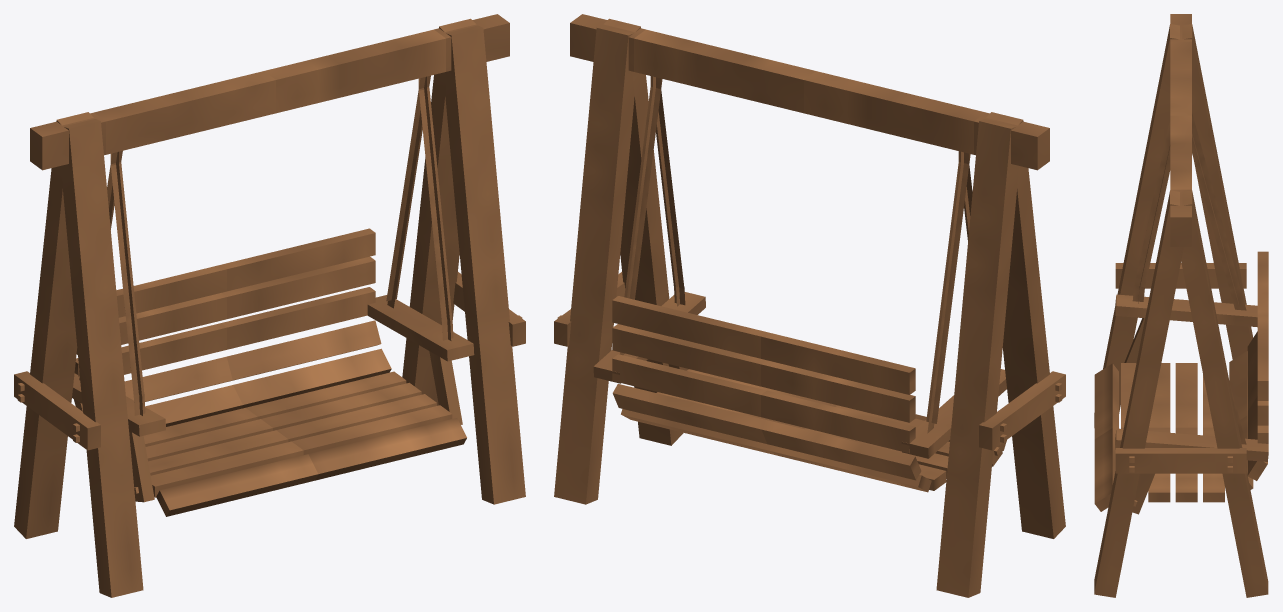
The model's file is swingchair.obj.
3 renders of one model, left to right at view 1: azimuth 30°, elevation 25°; view 2: azimuth 150°, elevation 25°; view 3: azimuth 270°, elevation 25°, orthographic. The views are drawn at different scales.
Parts seen in each view (by area): view 1: Leg3, Leg1, Leg2, plank1, Top1, Top2, Leg4, plank10, plank8, plank9, plank7, plank6 (+13 smaller); view 2: Leg2, Leg4, Leg1, plank10, plank8, plank9, Top1, Top2, plank7, Leg3, chain2, plank6 (+9 smaller); view 3: Leg3, Leg4, Leg1, Leg2, chain1a, armrest2, shelf2a, plank1, plank4, plank10, plank3, Top1 (+10 smaller).
Boxes of the visible parts, box(x1,y1,x2,y2) form: Leg3: box(445, 25, 525, 504); Leg1: box(61, 119, 143, 597); Leg2: box(14, 112, 93, 538); plank1: box(156, 418, 466, 516); Top1: box(94, 71, 275, 154); Top2: box(264, 29, 445, 113); Leg4: box(402, 18, 476, 405); plank10: box(116, 228, 375, 317); plank8: box(74, 287, 375, 374); plank9: box(76, 256, 375, 354); plank7: box(74, 320, 381, 411); plank6: box(145, 348, 391, 426); Leg2: box(936, 119, 1018, 597); Leg4: box(554, 25, 634, 504); Leg1: box(986, 112, 1065, 538); plank10: box(612, 296, 915, 394); plank8: box(612, 354, 915, 453); plank9: box(612, 324, 915, 422); Top1: box(804, 71, 985, 154); Top2: box(634, 29, 815, 113); plank7: box(612, 384, 921, 480); Leg3: box(603, 18, 683, 445); chain2: box(624, 78, 970, 423); plank6: box(621, 409, 931, 492); Leg3: box(1094, 190, 1183, 597); Leg4: box(1178, 190, 1268, 597); Leg1: box(1094, 24, 1179, 427); Leg2: box(1182, 24, 1253, 359); chain1a: box(1134, 113, 1246, 444); armrest2: box(1115, 294, 1268, 461); shelf2a: box(1115, 448, 1246, 473); plank1: box(1094, 363, 1118, 511); plank4: box(1175, 363, 1197, 502); plank10: box(1257, 251, 1268, 400); plank3: box(1148, 363, 1170, 502); Top1: box(1170, 41, 1191, 115).
Bounding box in the file's own units: 2.75 × 2.48 × 0.9984.
